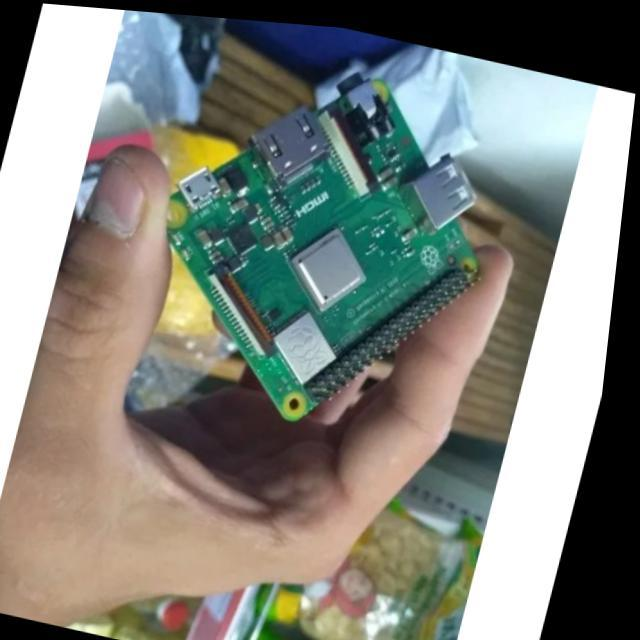Raspberry-Pi-3-A-: (170, 75, 476, 421)
